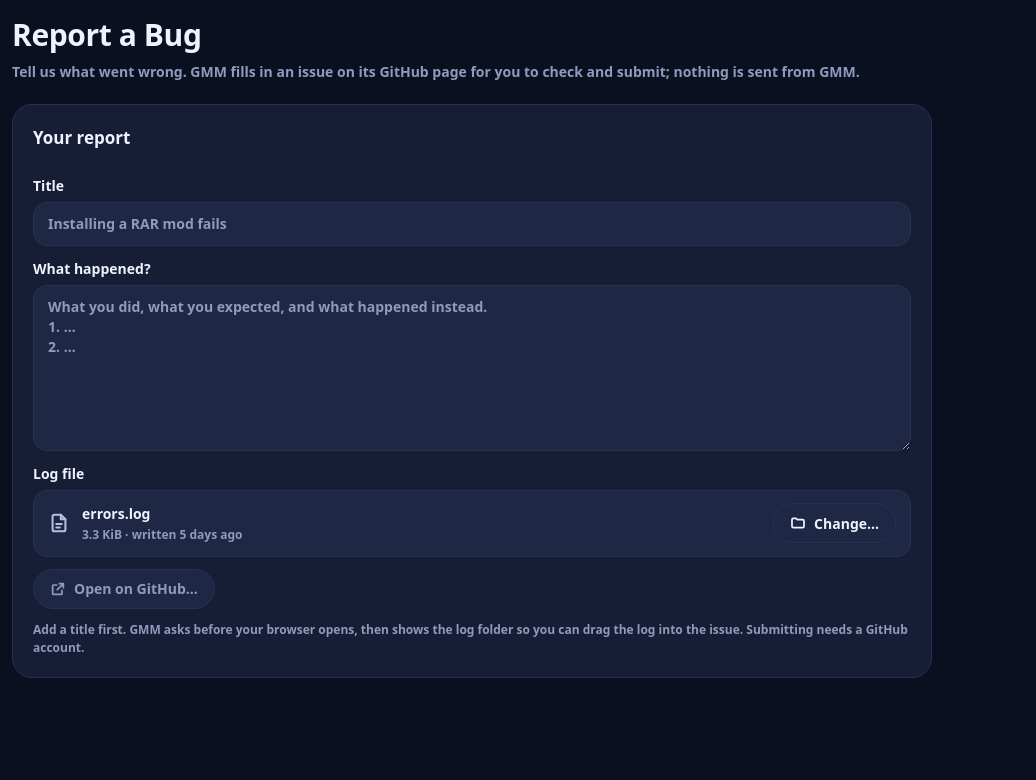
Scenario: Report a Bug › chooses the newest log and lets another be picked
Expected: the text "errors.log" is shown, 82,504 -> 150,523
Expected: the text "3.3 KiB · written 5 days ago" is shown, 82,526 -> 242,543
Click the button "Change…" at (835, 523), box 773,503 -> 896,543
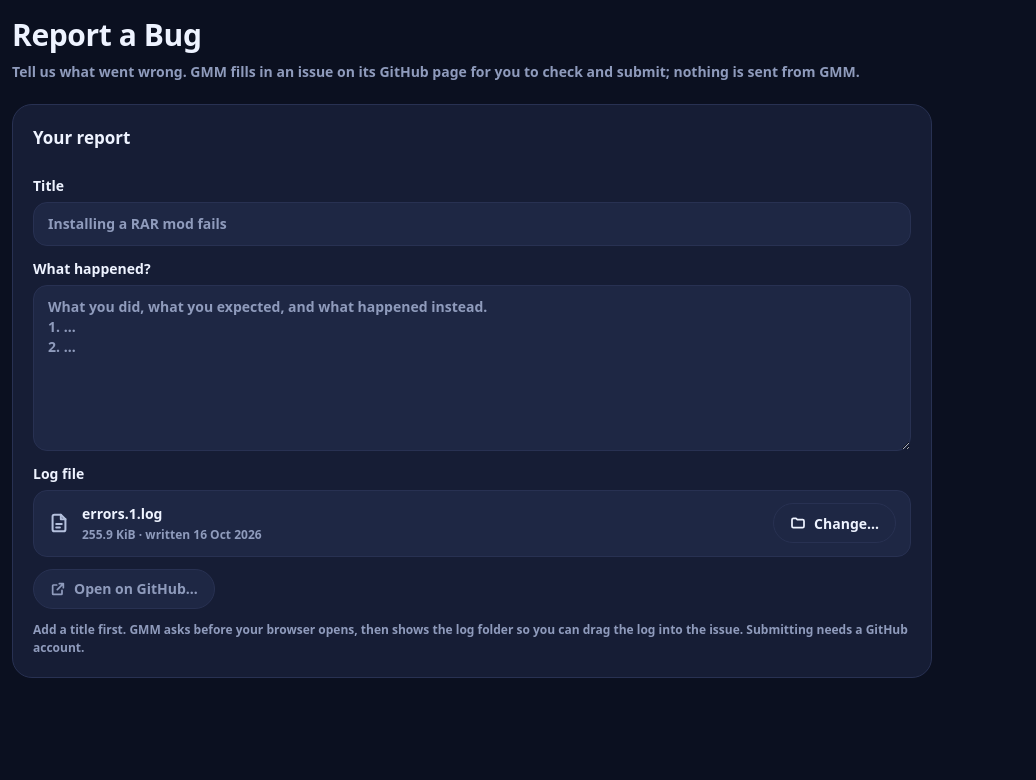
Expected: the text "errors.1.log" is shown, 82,504 -> 162,523
